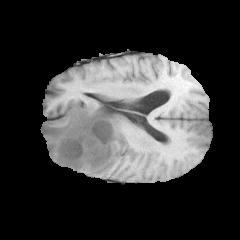glioma: (41, 102, 129, 172)
